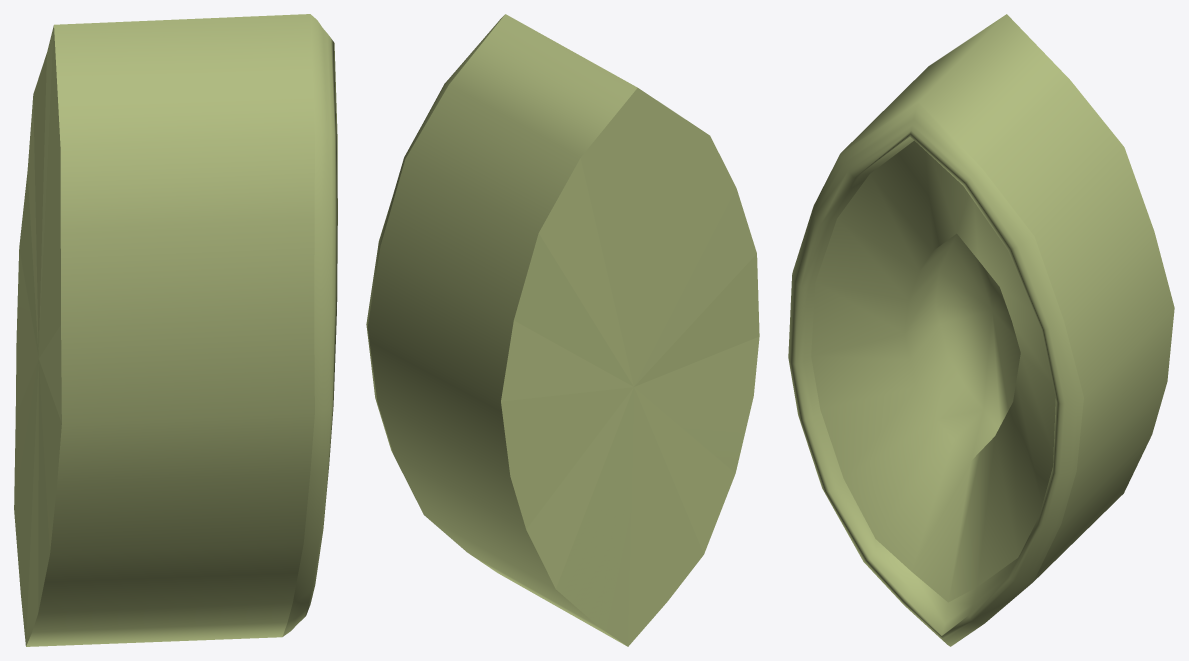
File: BR4_8shapes_Marquise_Classic_Metal.001 2.glb
3 views of the same model, side by side, from view 1: azimuth 30°, elevation 25°; view 2: azimuth 150°, elevation 25°; view 3: azimuth 270°, elevation 25° (orthographic). The views are drawn at different scales.
Visible parts, largest first — view 1: BR4_8shapes_Marquise_Classic_Metal.001; view 2: BR4_8shapes_Marquise_Classic_Metal.001; view 3: BR4_8shapes_Marquise_Classic_Metal.001.
Part boxes in pixels (bbox=[...]): BR4_8shapes_Marquise_Classic_Metal.001: bbox=[14, 14, 337, 646]; BR4_8shapes_Marquise_Classic_Metal.001: bbox=[366, 14, 759, 646]; BR4_8shapes_Marquise_Classic_Metal.001: bbox=[788, 14, 1174, 646].
Bounding box in the file's own units: 0.3948 × 0.6898 × 0.4389.
